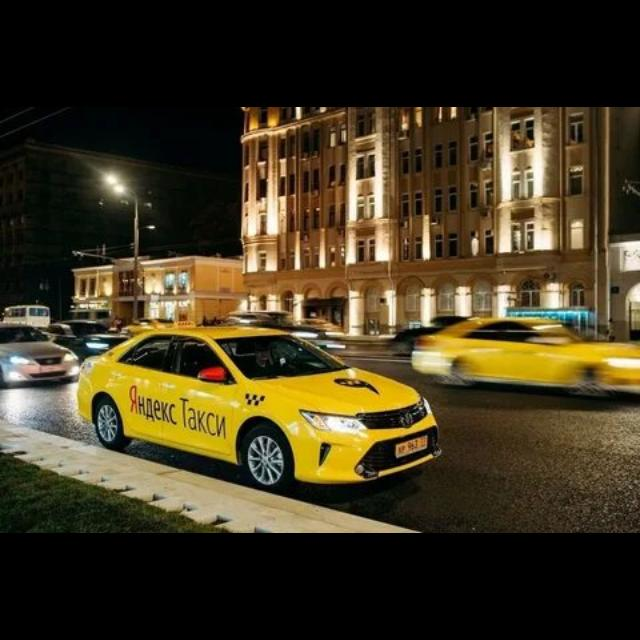taxi: (76, 320, 442, 492), (412, 316, 640, 398)
